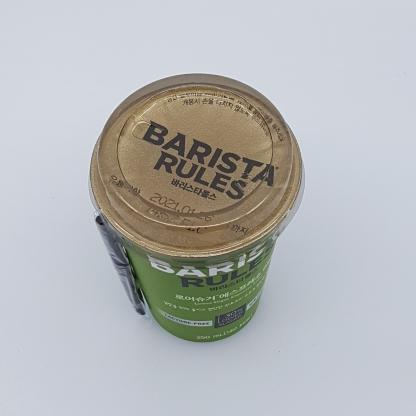-------------------: (89, 73, 305, 343)
